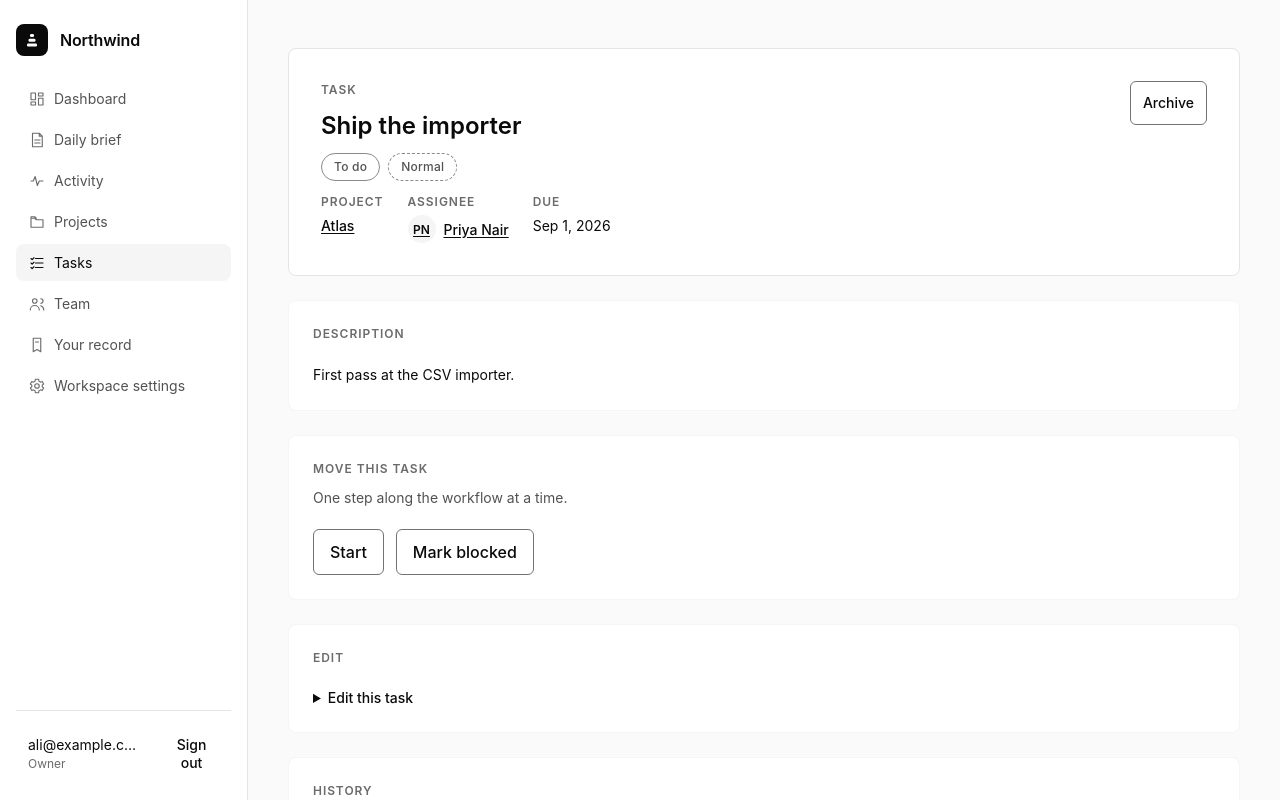
Test case: archive and restore › surfaces a refusal through the shared error copy
Expected: the heading "Ship the importer" is shown, [321,111,522,141]
What coordinates should you click on to do the following:
click the button "Archive"
I would click on:
 (1168, 103)
Its box is [1130,81,1207,125].
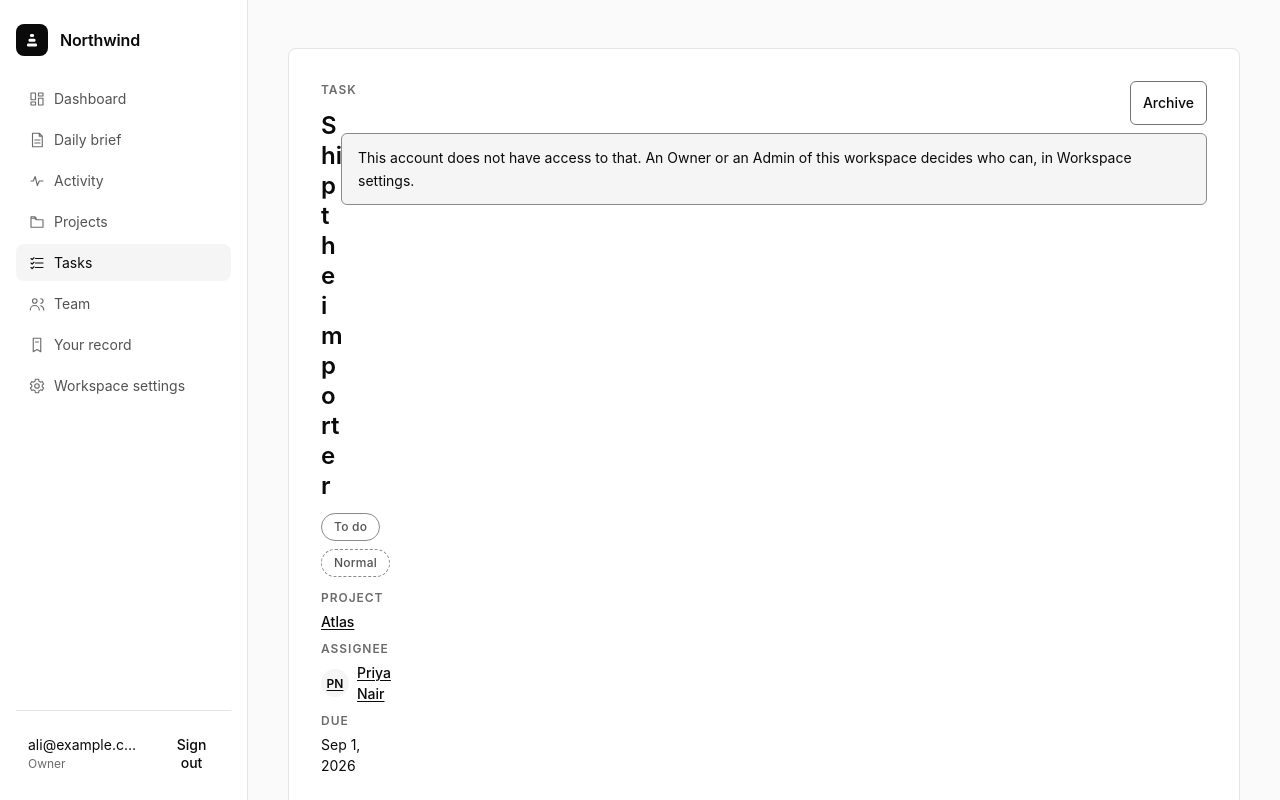
Expected: the message shows "does not have access", [358,149,1132,189]
